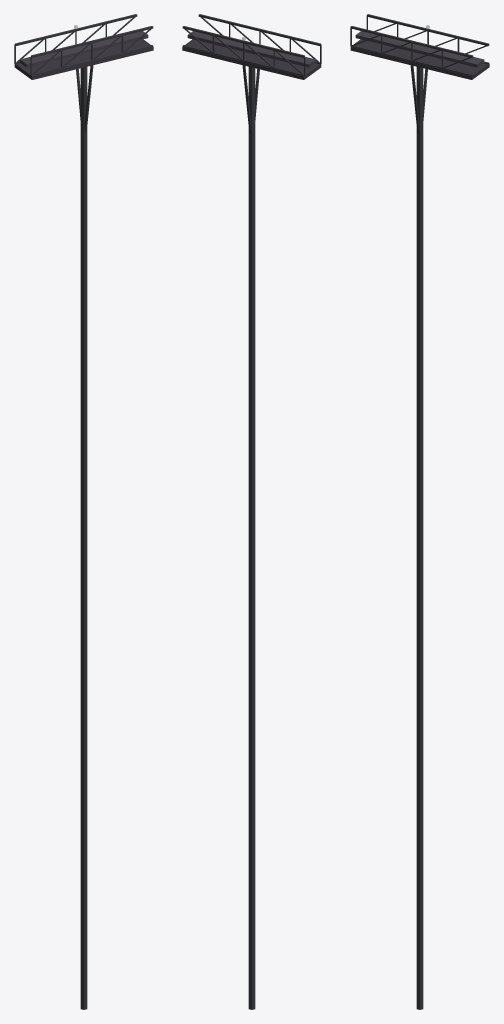
Rendered from cond_conveyor_span.glb.
3 renders of one model, left to right at view 1: azimuth 30°, elevation 25°; view 2: azimuth 150°, elevation 25°; view 3: azimuth 330°, elevation 25°, orthographic.
Visible parts, largest first — view 1: cond_conveyor_span; view 2: cond_conveyor_span; view 3: cond_conveyor_span.
Boxes of the visible parts, x1,y1,x2,y2 form: cond_conveyor_span: [14, 14, 153, 1009]; cond_conveyor_span: [182, 14, 321, 1009]; cond_conveyor_span: [350, 14, 489, 1009].
Bounding box in the file's own units: 20.12 × 154 × 5.08.
Materials: 4 (1 with a texture image).
